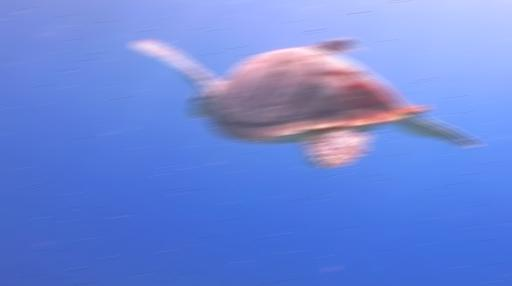Fish: (134, 38, 477, 167)
